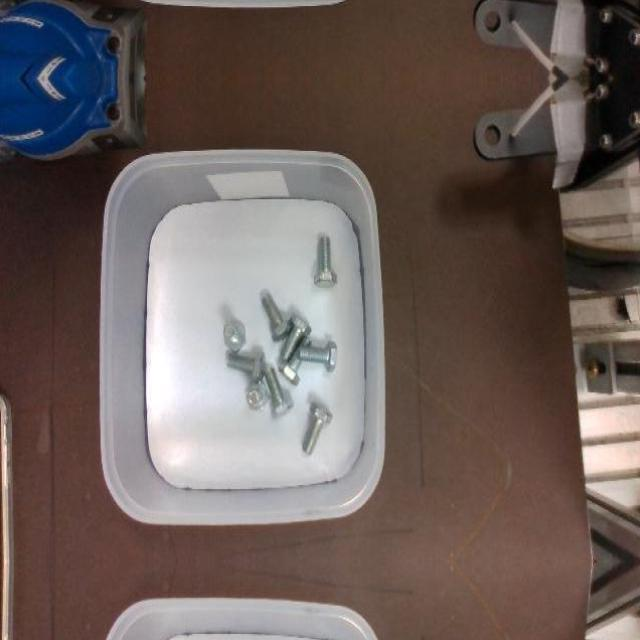screw: (302, 400, 333, 454), (262, 292, 294, 342), (281, 311, 313, 361), (264, 367, 294, 418), (227, 350, 266, 384), (298, 340, 338, 372), (314, 236, 337, 286), (224, 319, 247, 353), (247, 381, 270, 411)
